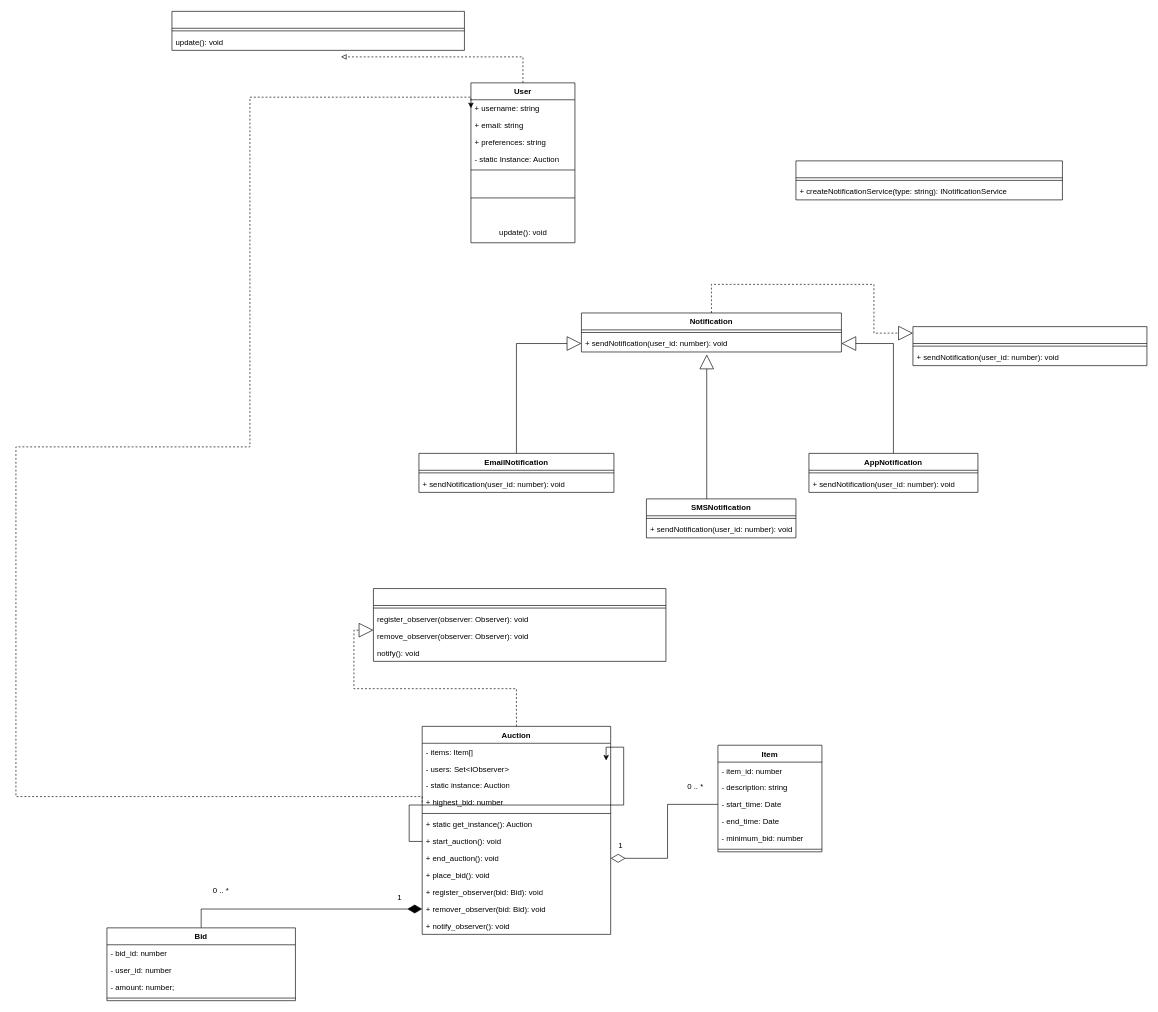
The diagram is 1158 pixels wide and 1012 high, and some of its shapes have lost their labels. Each missing label, with the box of its shape:
<<INotificationService>>: (912, 326, 1147, 366)
<<IObservable>>: (373, 588, 666, 661)
<<IObserver>>: (171, 11, 464, 50)
Notification Factory: (795, 160, 1062, 200)
